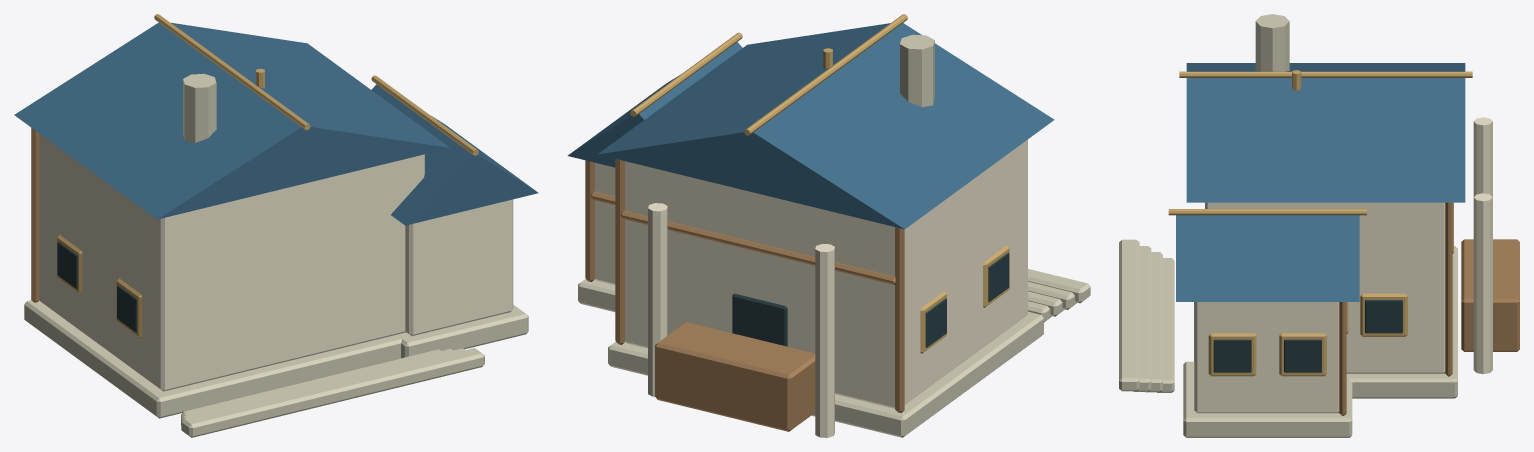
Rendered from level_25.glb.
3 views of the same model, side by side, from view 1: azimuth 30°, elevation 25°; view 2: azimuth 150°, elevation 25°; view 3: azimuth 270°, elevation 25° (orthographic). The views are drawn at different scales.
Visible parts, largest first — view 1: workshop — level 25; view 2: workshop — level 25; view 3: workshop — level 25.
Boxes of the visible parts, x1,y1,x2,y2 form: workshop — level 25: (14, 14, 538, 437); workshop — level 25: (567, 14, 1090, 437); workshop — level 25: (1119, 14, 1519, 437).
Bounding box in the file's own units: 5.8 × 4.25 × 5.46.
